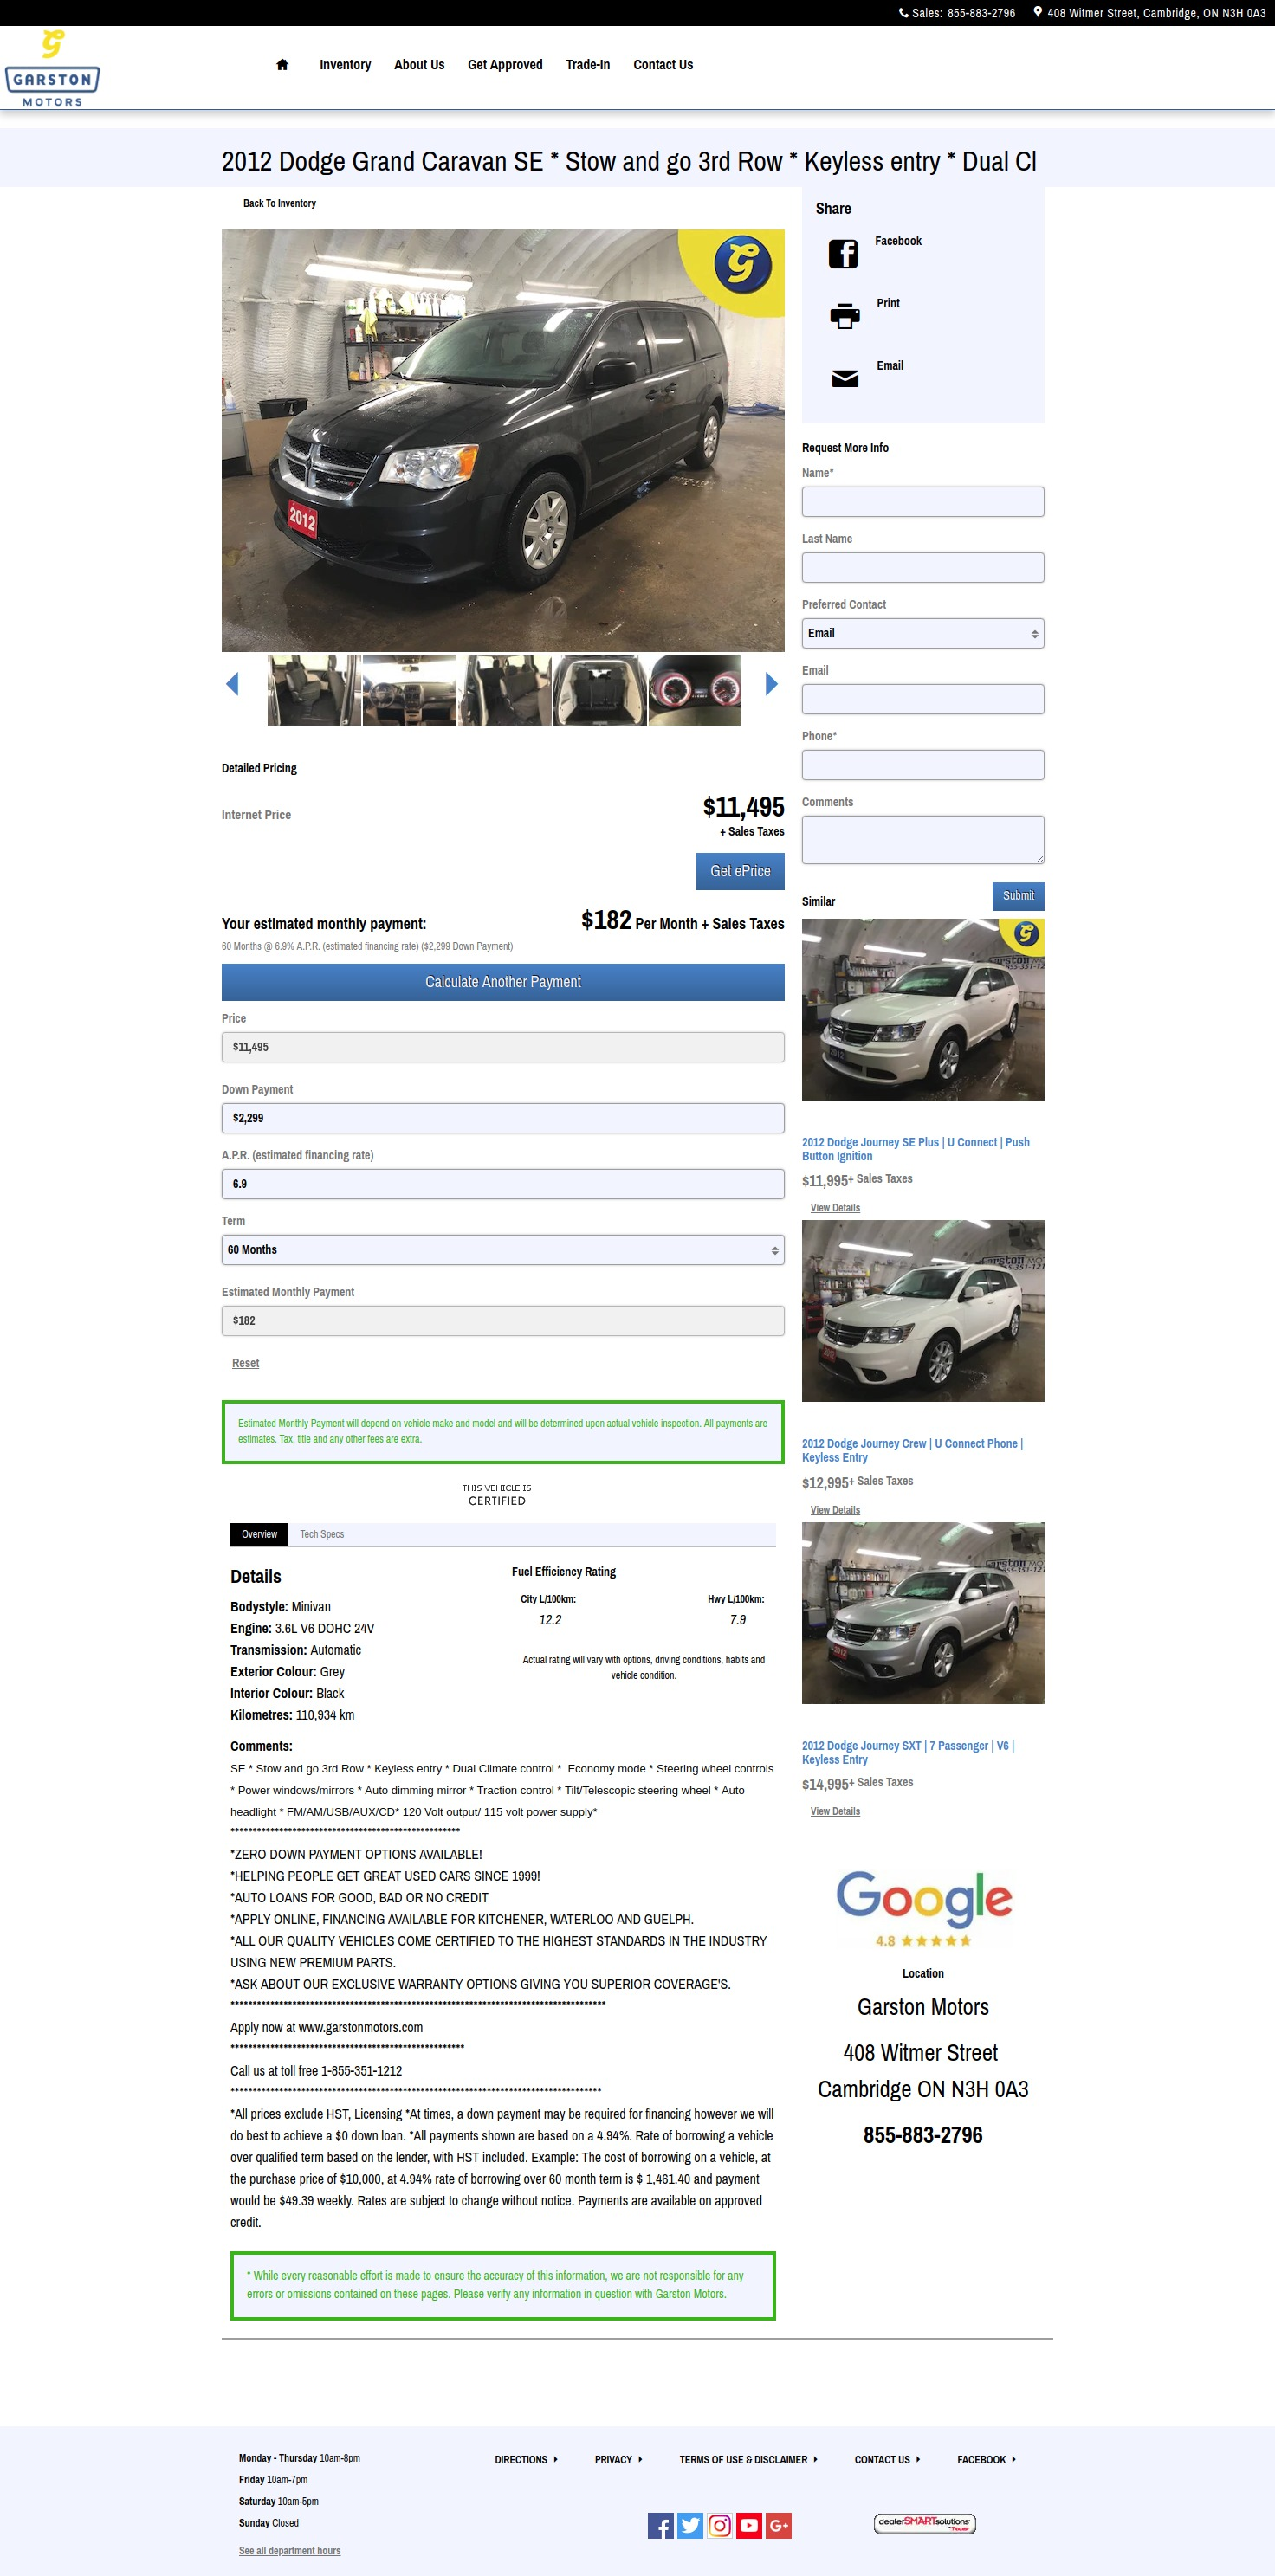car: (764, 672, 779, 697)
